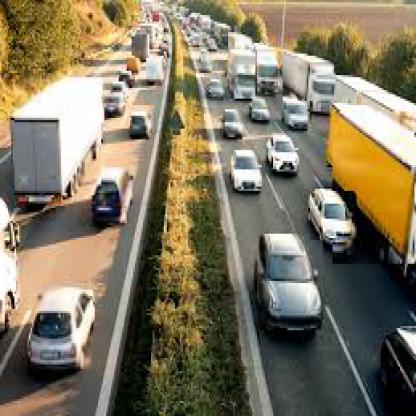car: (256, 235, 324, 333), (30, 284, 94, 374), (384, 325, 416, 415), (310, 192, 358, 243), (94, 171, 136, 229), (266, 134, 303, 177), (234, 151, 264, 190), (284, 93, 313, 128), (131, 111, 154, 143), (224, 111, 247, 141), (104, 93, 126, 119), (252, 98, 274, 123), (145, 57, 165, 82), (200, 50, 215, 74), (210, 80, 226, 100), (126, 57, 141, 72), (112, 83, 129, 96), (160, 44, 171, 54), (210, 40, 218, 53), (194, 35, 203, 46)
container: (14, 74, 102, 198), (282, 57, 337, 104)
truck: (332, 112, 415, 267), (229, 46, 256, 102), (256, 48, 279, 98), (227, 33, 255, 53), (135, 35, 151, 61), (202, 14, 211, 33)
